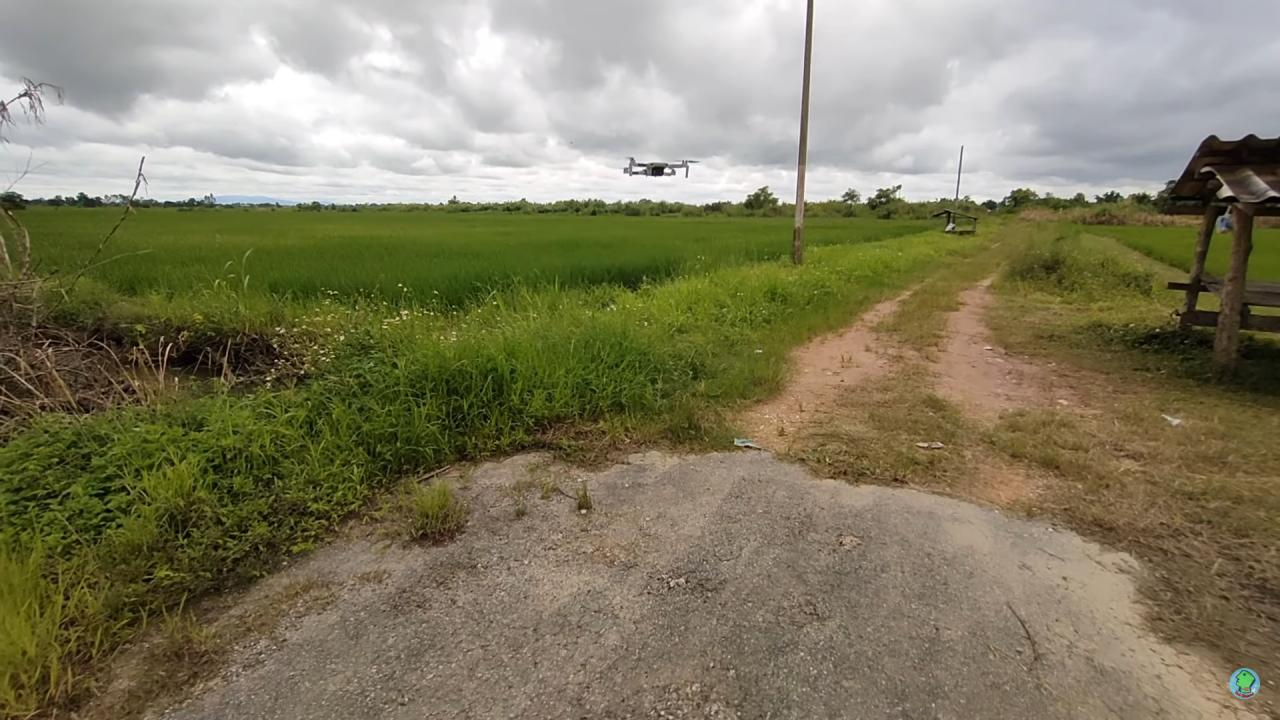Drone: (614, 145, 707, 193)
